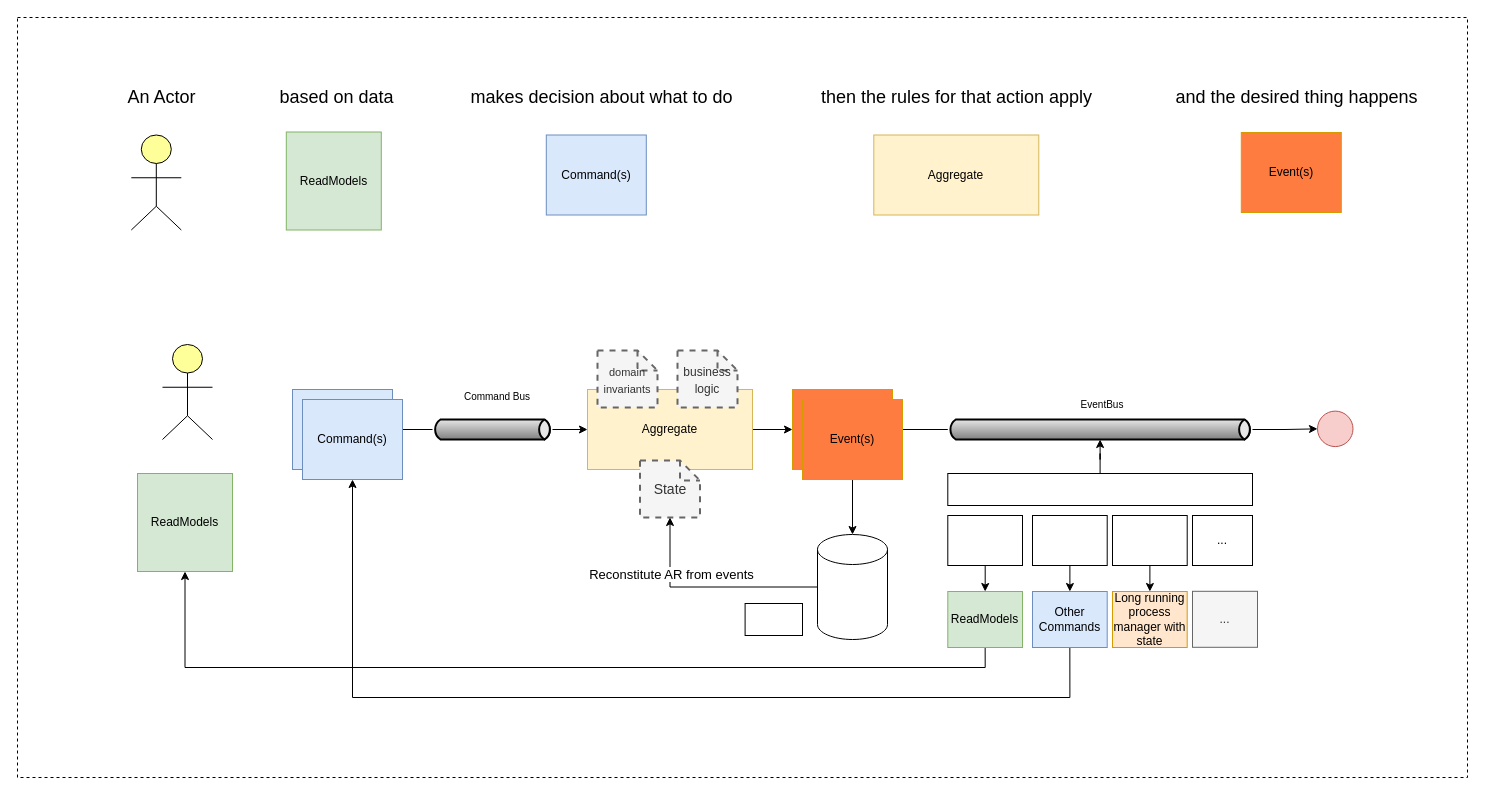
Some shapes in this 1485 by 795 pixel diagram are drawn without their labels. Each missing label, with the centre of its shape:
Event Listeners: point (1099, 489)
EventStore: point (852, 587)
Process Managers: point (1069, 540)
Projectors: point (984, 540)
Sagas: point (1149, 540)
Snapshots: point (773, 619)
